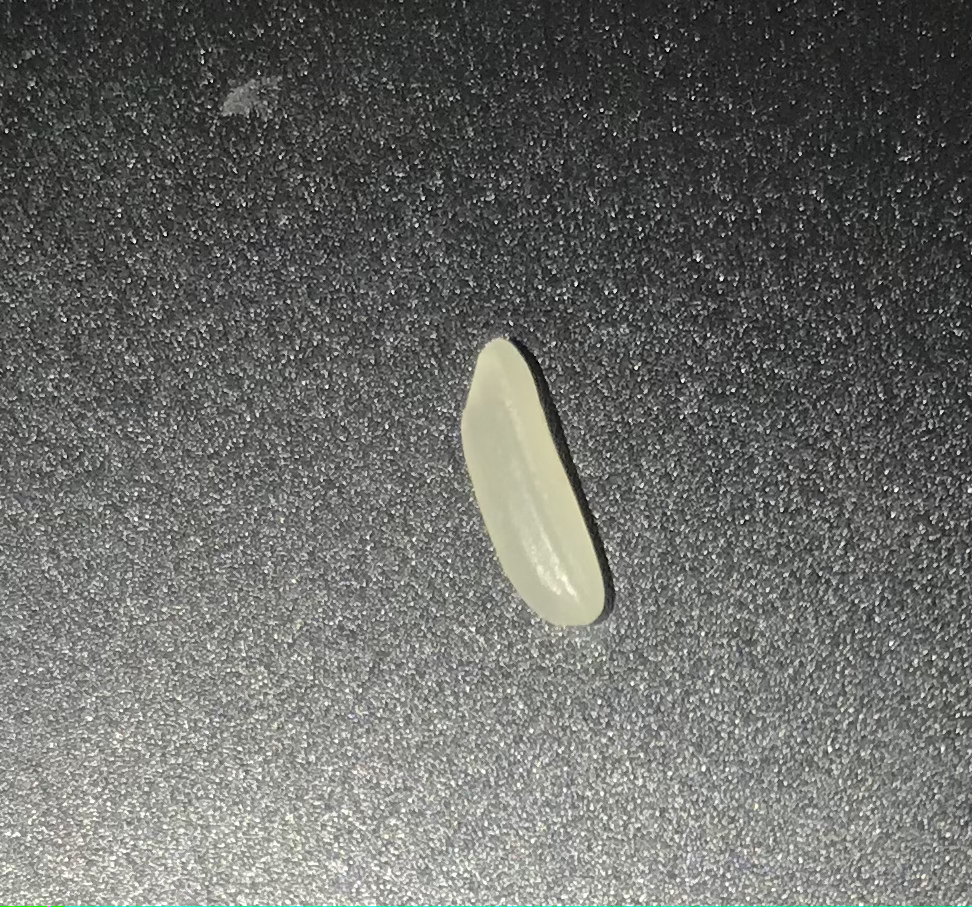Gao Thom My: (458, 325, 637, 662)
